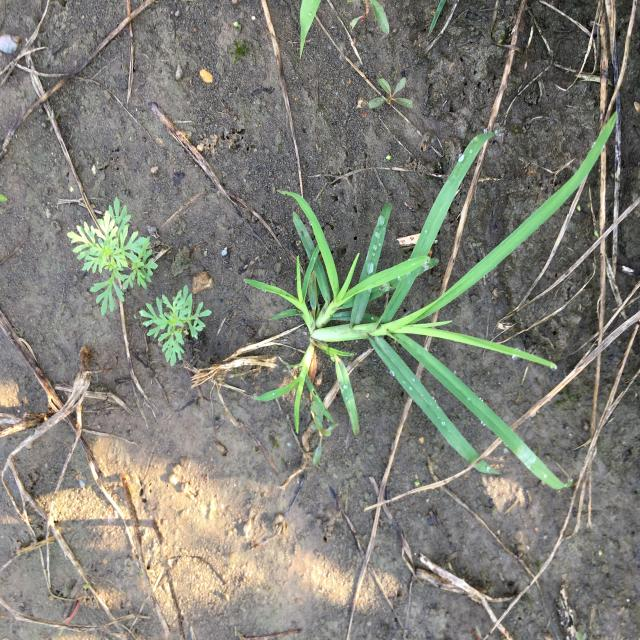Goosegrass: (241, 108, 620, 493)
Ragweed: (65, 196, 160, 316), (138, 284, 214, 369)
Waterhemp: (366, 74, 421, 112)
